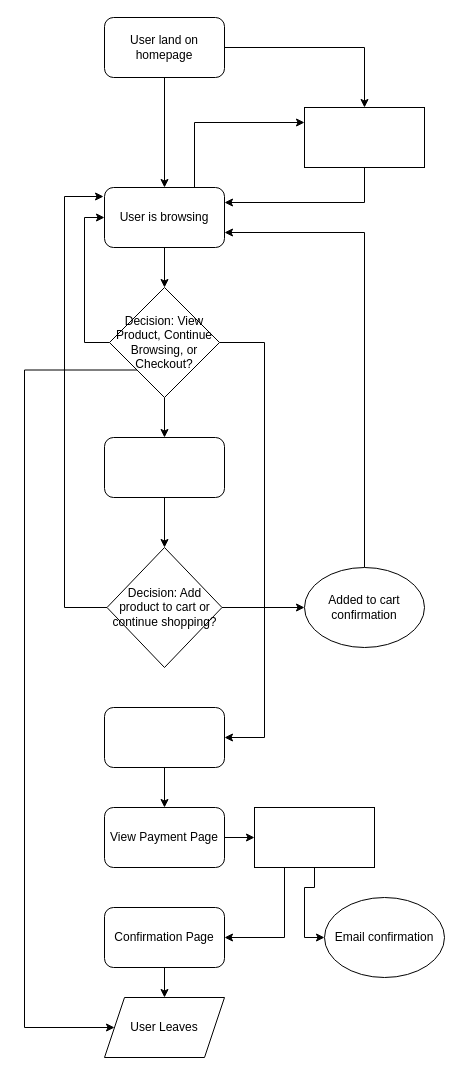
Some shapes in this 462 by 1075 pixel diagram are drawn without their labels. The centre of each missing label's shape, as x and y in pixels:
Product Page: (x=164, y=467)
User Input: Payment Info: (x=314, y=837)
User Input: Search: (x=364, y=137)
View Cart Page: (x=164, y=737)
